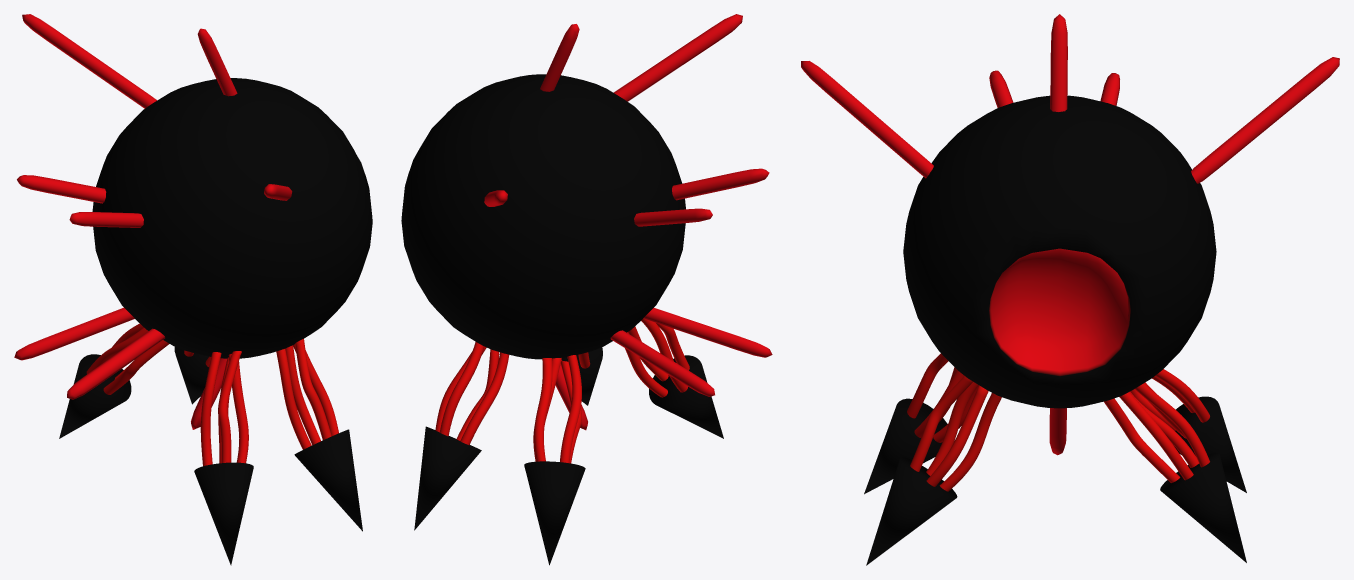
File: bomb_explode_Brian_2.fbx
3 renders of one model, left to right at view 1: azimuth 30°, elevation 25°; view 2: azimuth 150°, elevation 25°; view 3: azimuth 270°, elevation 25°, orthographic. The views are drawn at different scales.
Parts seen in each view (by area): view 1: HeadStick_1.001; view 2: HeadStick_1.001; view 3: HeadStick_1.001.
Part boxes in pixels (x1,y1,x2,y2): HeadStick_1.001: (14,14,372,565); HeadStick_1.001: (401,14,772,565); HeadStick_1.001: (801,14,1339,565).
Bounding box in the file's own units: 210 × 303 × 289.
